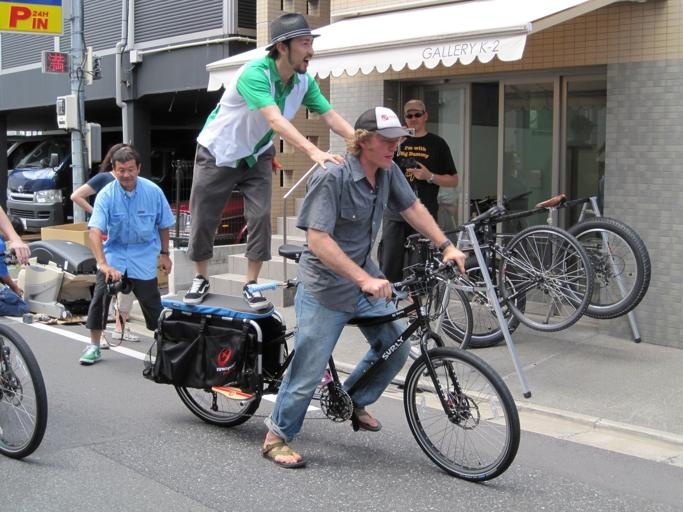non-vehicle: (155, 243, 519, 482), (432, 193, 651, 348), (392, 205, 593, 366), (0, 248, 47, 459)
